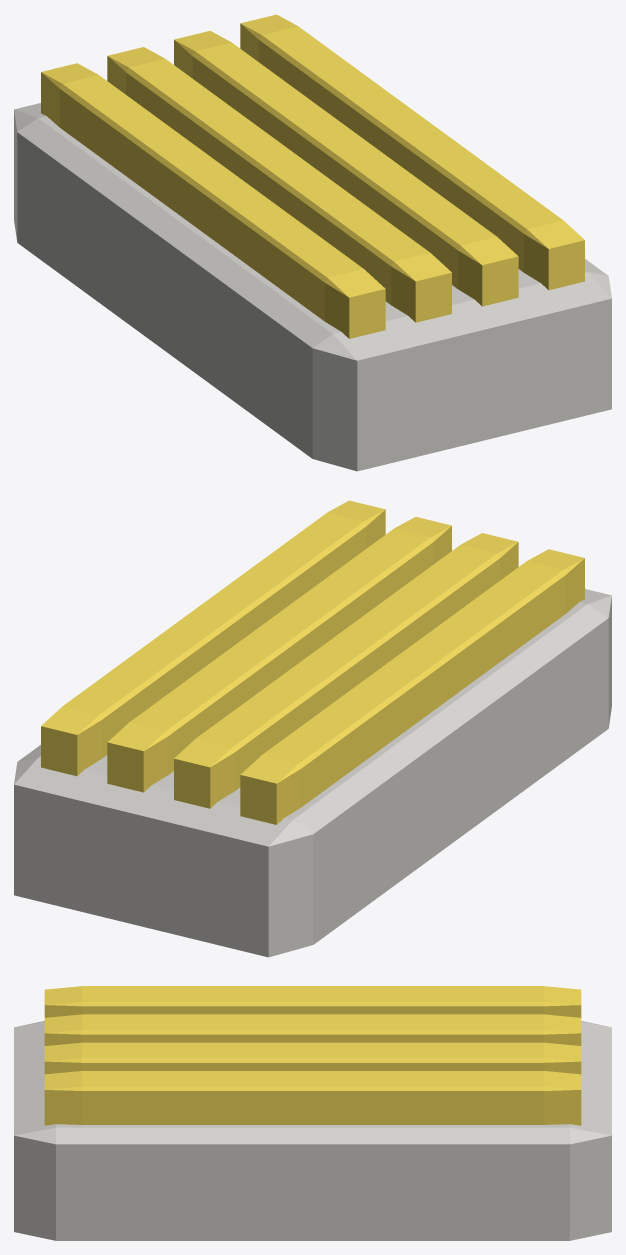
Rendered from b13_low_station_platform_with_access_ramp.glb.
The picture shows the model from 3 angles, top to bottom: view 1: azimuth 30°, elevation 25°; view 2: azimuth 150°, elevation 25°; view 3: azimuth 270°, elevation 25°; orthographic projection. The views are drawn at different scales.
Parts seen in each view (by area): view 1: b13_low_station_platform_with_access_ramp; view 2: b13_low_station_platform_with_access_ramp; view 3: b13_low_station_platform_with_access_ramp.
Part boxes in pixels (x1,y1,x2,y2): b13_low_station_platform_with_access_ramp: [14, 14, 611, 471]; b13_low_station_platform_with_access_ramp: [14, 500, 611, 957]; b13_low_station_platform_with_access_ramp: [14, 986, 611, 1240].
Bounding box in the file's own units: 2.5 × 1.38 × 5.02.
